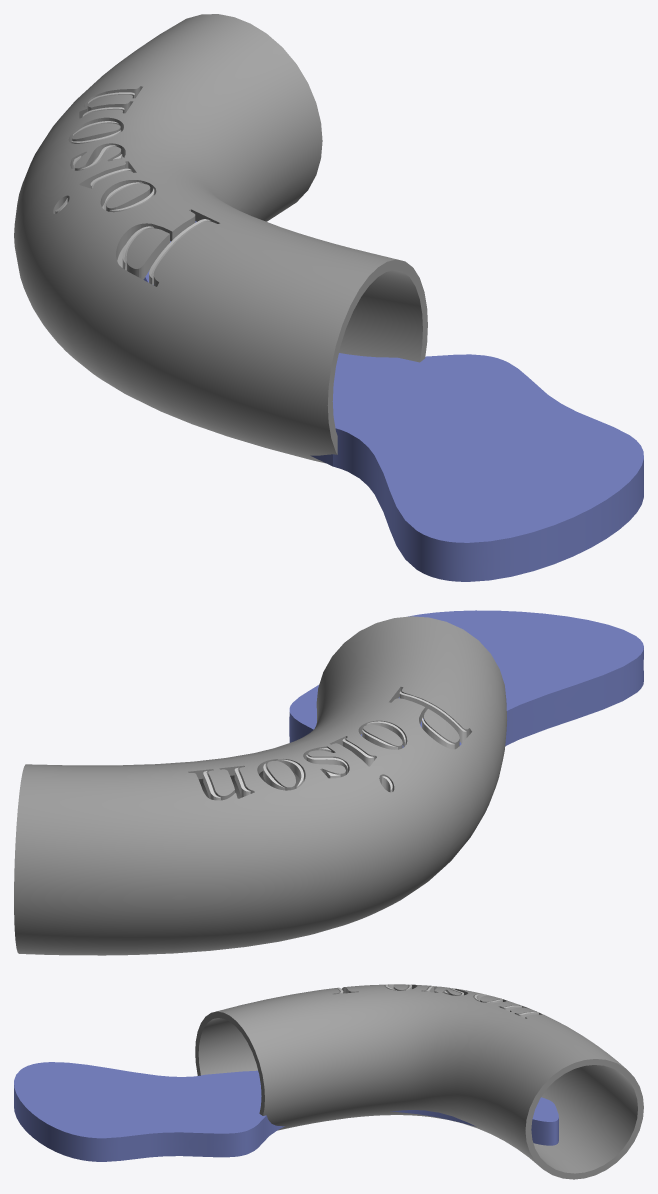
Rendered from about-water.glb.
The picture shows the model from 3 angles, top to bottom: view 1: azimuth 30°, elevation 25°; view 2: azimuth 150°, elevation 25°; view 3: azimuth 270°, elevation 25°; orthographic projection. The views are drawn at different scales.
Visible parts, largest first — view 1: Body17, Body18, Body12; view 2: Body17, Body18, Body12, Body8, Body10, Body5; view 3: Body17, Body18.
Boxes of the visible parts, x1=… form: Body17: x1=14, y1=14, x2=427, y2=463; Body18: x1=143, y1=221, x2=643, y2=581; Body12: x1=126, y1=228, x2=169, y2=279; Body17: x1=14, y1=616, x2=507, y2=955; Body18: x1=289, y1=610, x2=643, y2=747; Body12: x1=424, y1=709, x2=459, y2=749; Body8: x1=267, y1=761, x2=295, y2=790; Body10: x1=399, y1=691, x2=466, y2=743; Body5: x1=363, y1=724, x2=402, y2=749; Body17: x1=195, y1=984, x2=643, y2=1179; Body18: x1=14, y1=1062, x2=558, y2=1161.
Bounding box in the file's own units: 3.37 × 1.71 × 8.26.
